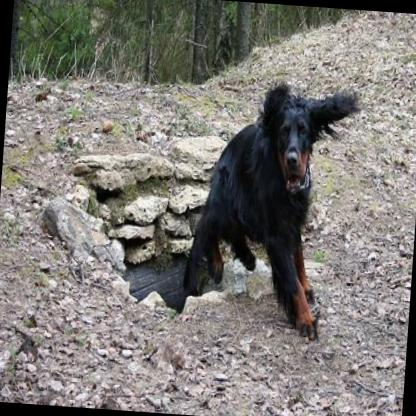Gordon_setter: (181, 76, 359, 341)
